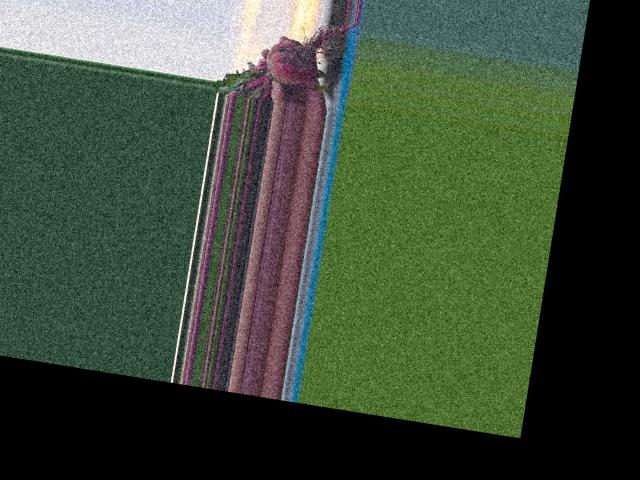beet: (214, 2, 357, 113)
